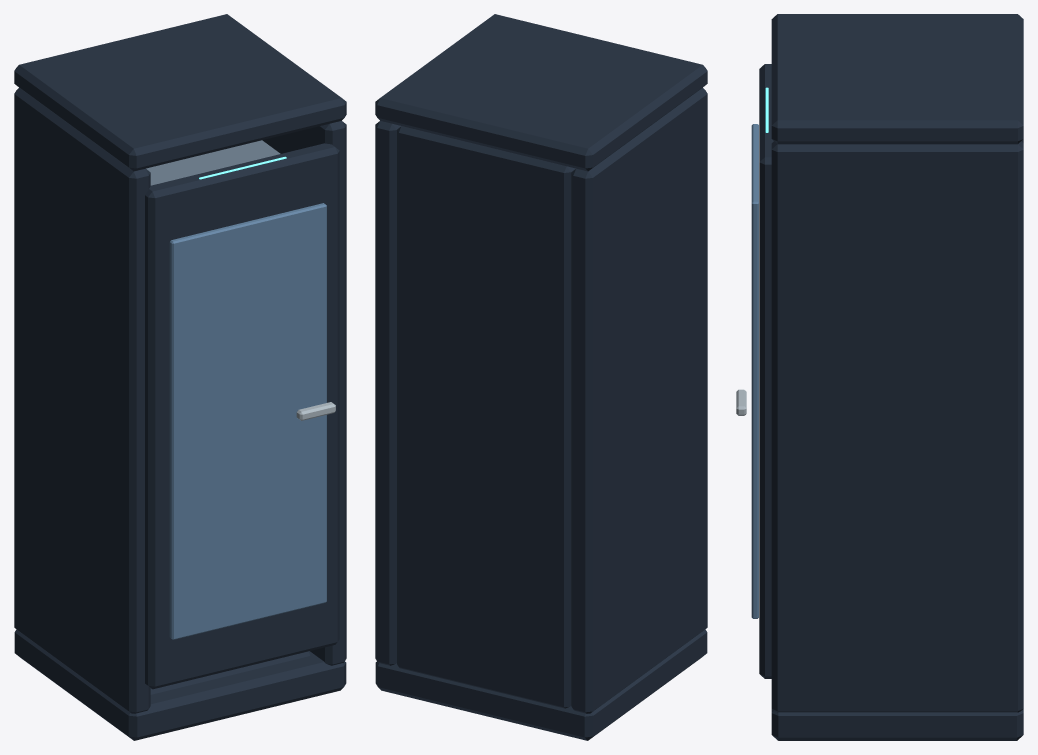
Rendered from utility_09.glb.
3 views of the same model, side by side, from view 1: azimuth 30°, elevation 25°; view 2: azimuth 150°, elevation 25°; view 3: azimuth 270°, elevation 25° (orthographic). The views are drawn at different scales.
Parts seen in each view (by area): view 1: Side (×2), InsetPanel, DoorPanel, Top, Base, ServerBlade, Bottom; view 2: Back, Side (×2), Top, Base; view 3: Side, Top, DoorPanel, Base, InsetPanel.
Boxes of the visible parts, x1=… form: Side (×2): x1=14, y1=88, x2=346, y2=713; InsetPanel: x1=169, y1=203, x2=326, y2=639; DoorPanel: x1=145, y1=143, x2=339, y2=689; Top: x1=14, y1=14, x2=346, y2=171; Base: x1=14, y1=629, x2=346, y2=740; ServerBlade: x1=146, y1=140, x2=280, y2=185; Bottom: x1=150, y1=651, x2=311, y2=694; Back: x1=397, y1=126, x2=575, y2=708; Side (×2): x1=375, y1=88, x2=707, y2=713; Top: x1=375, y1=14, x2=707, y2=171; Base: x1=375, y1=629, x2=707, y2=740; Side: x1=771, y1=141, x2=1023, y2=712; Top: x1=771, y1=14, x2=1023, y2=144; DoorPanel: x1=759, y1=64, x2=773, y2=678; Base: x1=771, y1=709, x2=1023, y2=740; InsetPanel: x1=751, y1=124, x2=758, y2=618.
Bounding box in the file's own units: 0.7 × 1.82 × 0.764.
